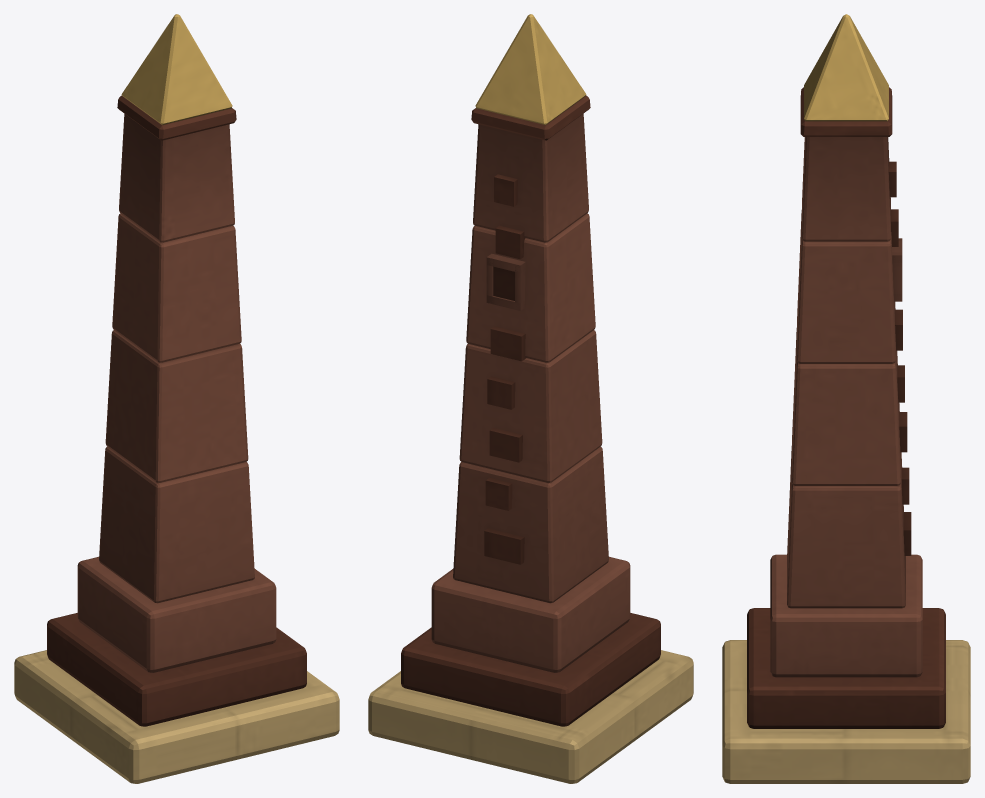
File: obelisk.glb
The picture shows the model from 3 angles, left to right: view 1: azimuth 30°, elevation 25°; view 2: azimuth 150°, elevation 25°; view 3: azimuth 270°, elevation 25°; orthographic projection. The views are drawn at different scales.
Visible parts, largest first — view 1: obelisk_granite_aswan, obelisk_stone_warm, obelisk_granite_shadow, obelisk_electrum_cap; view 2: obelisk_granite_aswan, obelisk_granite_shadow, obelisk_stone_warm, obelisk_electrum_cap; view 3: obelisk_granite_aswan, obelisk_stone_warm, obelisk_granite_shadow, obelisk_electrum_cap.
Boxes of the visible parts, x1,y1,x2,y2 form: obelisk_granite_aswan: (77,114,276,672); obelisk_stone_warm: (14,650,339,783); obelisk_granite_shadow: (47,95,306,726); obelisk_electrum_cap: (121,14,232,124); obelisk_granite_aswan: (431,114,630,672); obelisk_granite_shadow: (401,95,660,726); obelisk_stone_warm: (368,650,693,783); obelisk_electrum_cap: (475,14,586,124); obelisk_granite_aswan: (770,137,922,677); obelisk_stone_warm: (722,640,970,783); obelisk_granite_shadow: (747,87,945,728); obelisk_electrum_cap: (804,14,888,121).
Size of the model in its own units: 0.75 by 2.4 by 0.75.
4 materials, 4 textured.
